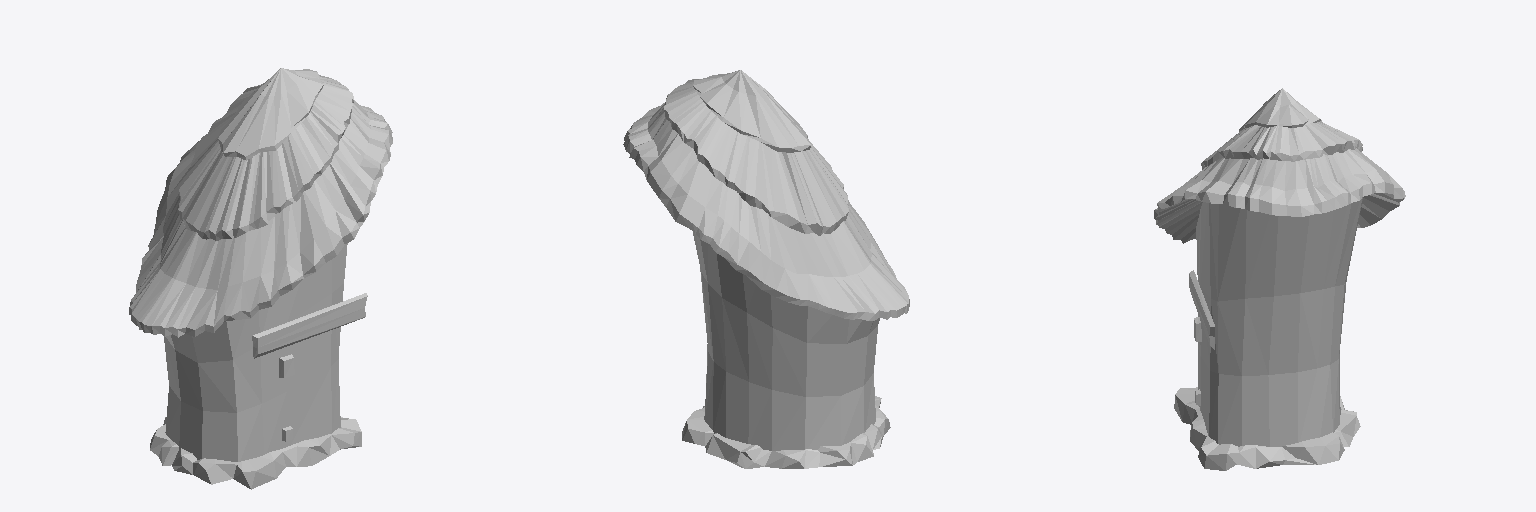
Rendered from ShedOBJ.obj.
3 views of the same model, side by side, from view 1: azimuth 30°, elevation 25°; view 2: azimuth 150°, elevation 25°; view 3: azimuth 270°, elevation 25° (orthographic).
Visible parts, largest first — view 1: node_id234_mesh_id235, node_id232_mesh_id233; view 2: node_id234_mesh_id235, node_id232_mesh_id233; view 3: node_id232_mesh_id233, node_id234_mesh_id235.
Part boxes in pixels (bbox=[...]): node_id234_mesh_id235: bbox=[129, 68, 392, 337]; node_id232_mesh_id233: bbox=[150, 243, 367, 489]; node_id234_mesh_id235: bbox=[623, 70, 909, 320]; node_id232_mesh_id233: bbox=[682, 232, 890, 468]; node_id232_mesh_id233: bbox=[1174, 197, 1362, 470]; node_id234_mesh_id235: bbox=[1154, 88, 1405, 243].
Size of the model in its own units: 0.4571 by 0.6162 by 0.3887.